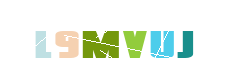9: (60, 0, 140, 80)
J: (147, 0, 227, 80)
L: (33, 0, 113, 80)
M: (73, 0, 153, 80)
U: (122, 0, 202, 80)
V: (93, 0, 173, 80)
